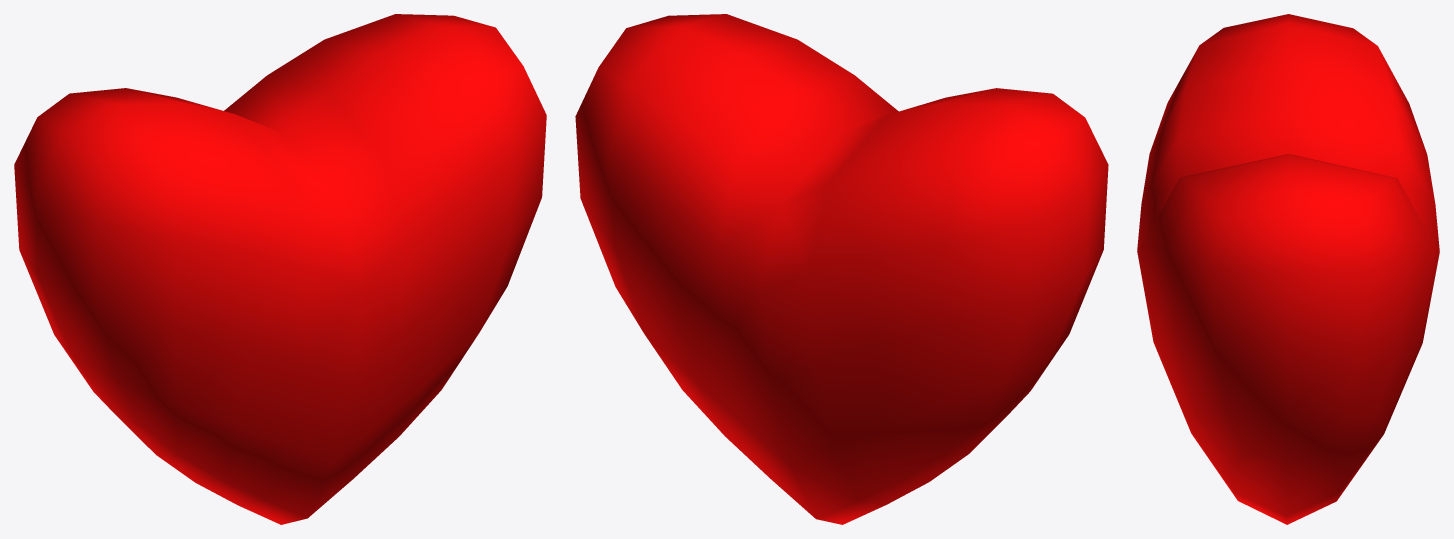
3 renders of one model, left to right at view 1: azimuth 30°, elevation 25°; view 2: azimuth 150°, elevation 25°; view 3: azimuth 270°, elevation 25°, orthographic. The views are drawn at different scales.
Visible parts, largest first — view 1: 立方体; view 2: 立方体; view 3: 立方体.
Part boxes in pixels (x1,y1,x2,y2): 立方体: [14, 14, 546, 524]; 立方体: [575, 14, 1108, 524]; 立方体: [1137, 14, 1439, 524].
Bounding box in the file's own units: 2.79 × 2.5 × 1.61.
Materials: 1 (1 with a texture image).
